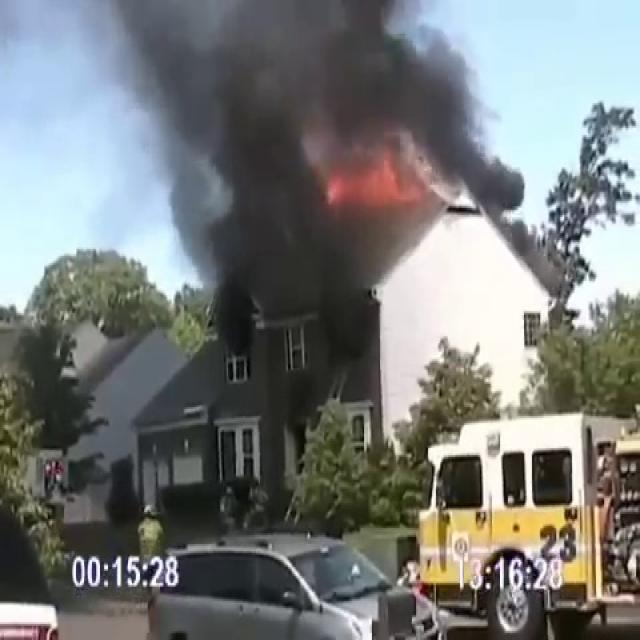Smoke: (1, 0, 526, 347)
